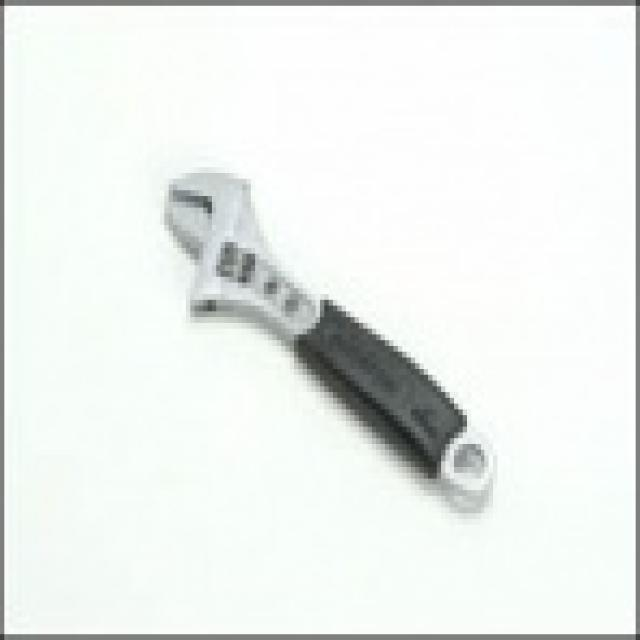wrench: (154, 160, 503, 512)
